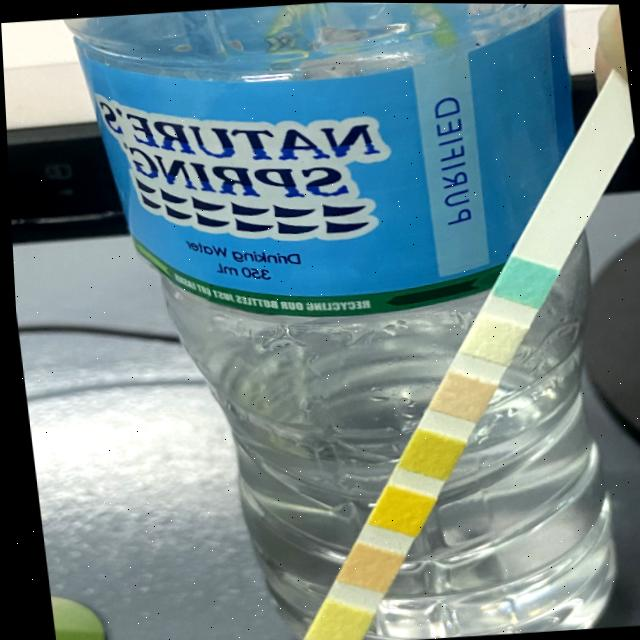Bilirubin: (468, 320, 507, 355)
Blood: (375, 491, 414, 527)
Glucose: (502, 261, 538, 298)
Ketone: (436, 377, 478, 412)
Protein: (309, 607, 355, 640)
SpGravity: (403, 435, 450, 470)
pH: (337, 549, 390, 581)
